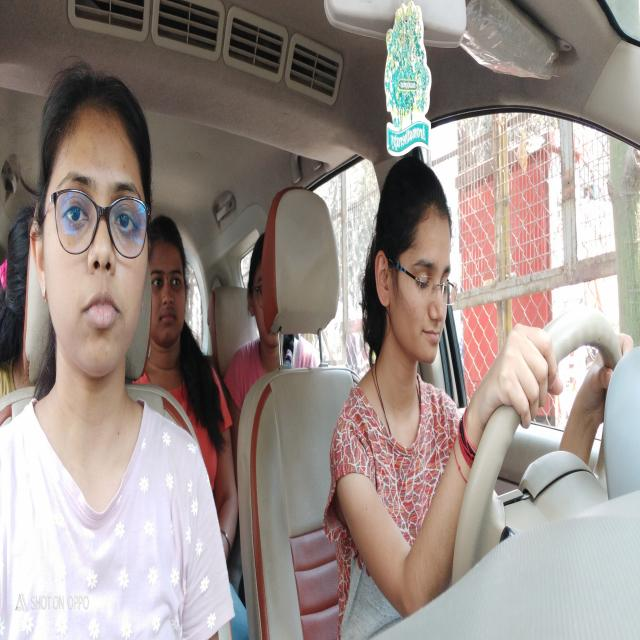drowsy: (368, 162, 458, 383)
person: (36, 66, 155, 408), (152, 215, 191, 350), (244, 225, 271, 348)
